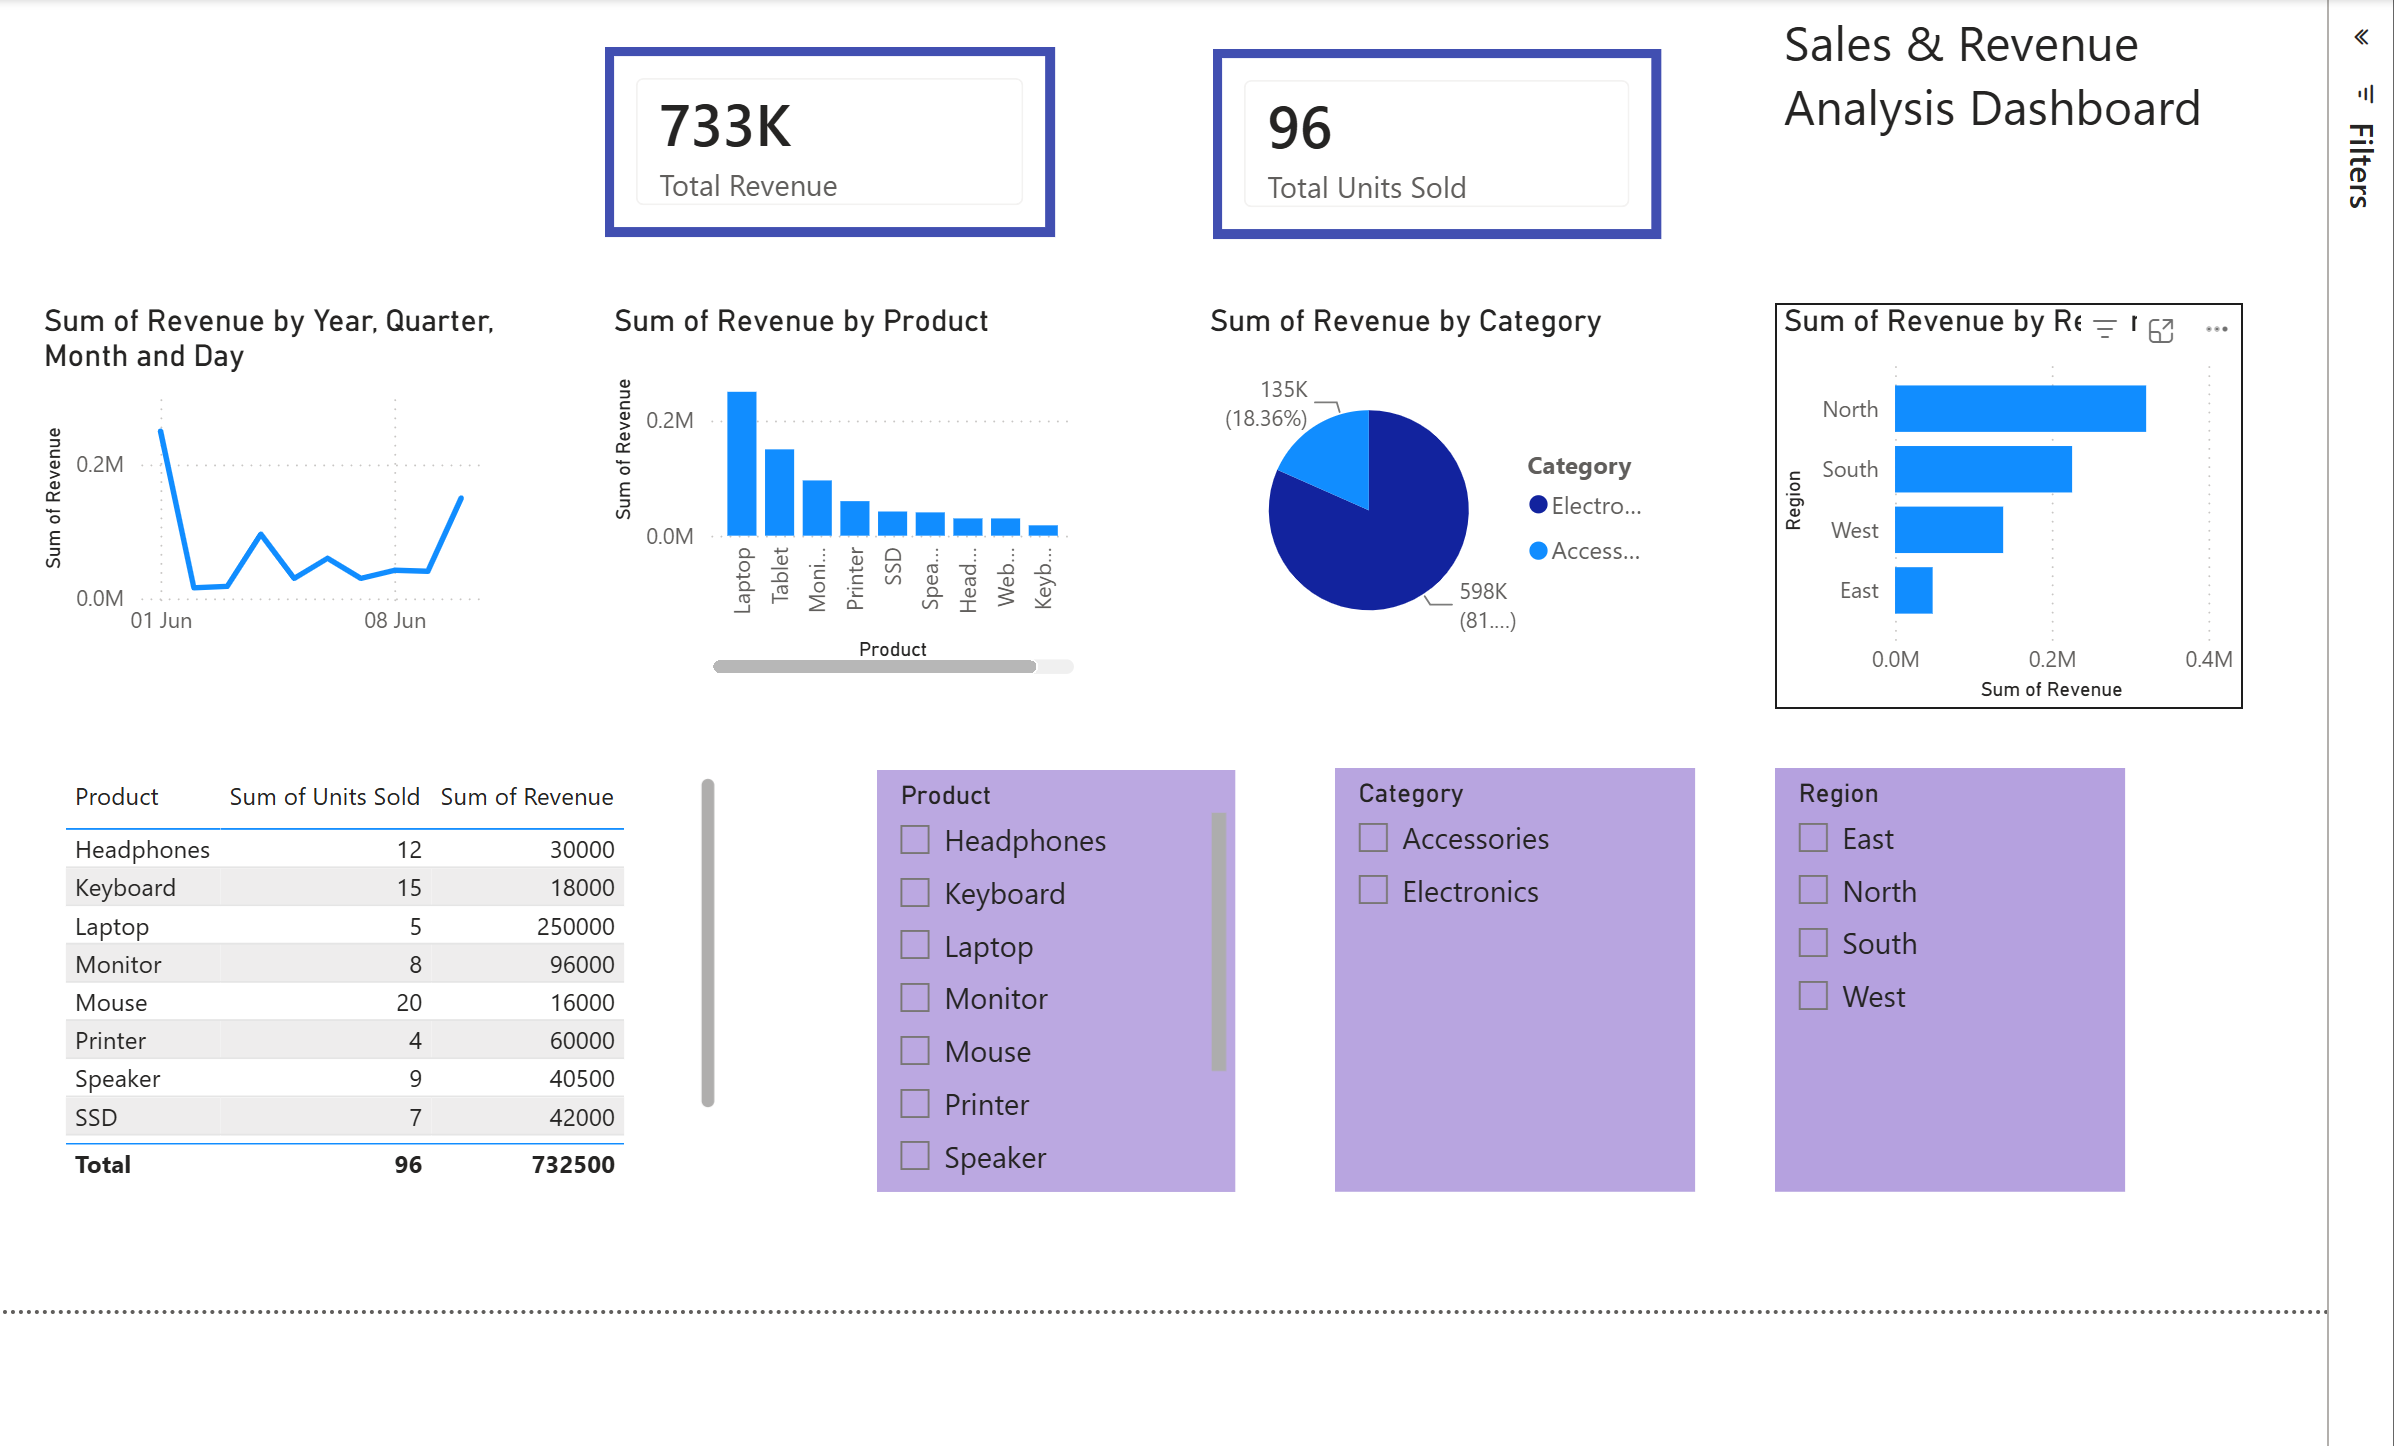

The page's visual inventory and layout, read from the dashboard file:
{"tool":"powerbi","page":{"name":"Page 1","canvas":[1280,720],"ordinal":0},"visuals":[{"type":"cardVisual","fields":{"Data":["Sheet1.Total Revenue"]},"box":[333.2,26.4,247.4,104.5],"z":0},{"type":"cardVisual","fields":{"Data":["Sheet1.Total Units Sold"]},"box":[667.5,27.5,246.3,104.5],"z":1},{"type":"lineChart","fields":{"Y":["Sum(Sheet1.Revenue)"],"Category":["Sheet1.Date.Variation.Date Hierarchy.Year","Sheet1.Date.Variation.Date Hierarchy.Quarter","Sheet1.Date.Variation.Date Hierarchy.Month","Sheet1.Date.Variation.Date Hierarchy.Day"]},"box":[19.8,167.1,257.3,192.4],"z":2},{"type":"clusteredColumnChart","fields":{"Category":["Sheet1.Product"],"Y":["Sum(Sheet1.Revenue)"]},"box":[333.2,167.1,262.8,208.9],"z":3},{"type":"pieChart","fields":{"Category":["Sheet1.Category"],"Y":["Sum(Sheet1.Revenue)"]},"box":[660.9,167.1,259.5,208.9],"z":4},{"type":"clusteredBarChart","fields":{"Y":["Sum(Sheet1.Revenue)"],"Category":["Sheet1.Region"]},"box":[976.5,167.1,257.3,223.2],"z":5},{"type":"tableEx","fields":{"Values":["Sheet1.Product","Sum(Sheet1.Units Sold)","Sum(Sheet1.Revenue)"]},"box":[30.8,422.3,368.4,232],"z":6},{"type":"slicer","fields":{"Values":["Sheet1.Product"]},"box":[482.7,423.4,196.8,232],"z":7},{"type":"slicer","fields":{"Values":["Sheet1.Category"]},"box":[734.6,422.3,197.9,233.1],"z":8},{"type":"slicer","fields":{"Values":["Sheet1.Region"]},"box":[976.5,422.3,192.4,233.1],"z":9},{"type":"textbox","box":[976,0,257,150],"z":10}]}

Visuals, with their boxes on the page's 1280x720 design canvas (x1, y1, x2, y2). These are canvas units, not pixel positions in the 2394x1446 screenshot, which may show the page scaled, cropped or inside an application window:
cardVisual - Sheet1.Total Revenue: (333,26,581,131)
cardVisual - Sheet1.Total Units Sold: (668,28,914,132)
lineChart - Sum(Sheet1.Revenue) x Sheet1.Date.Variation.Date Hierarchy.Year: (20,167,277,360)
clusteredColumnChart - Sheet1.Product x Sum(Sheet1.Revenue): (333,167,596,376)
pieChart - Sheet1.Category x Sum(Sheet1.Revenue): (661,167,920,376)
clusteredBarChart - Sum(Sheet1.Revenue) x Sheet1.Region: (976,167,1234,390)
tableEx - Sheet1.Product x Sum(Sheet1.Units Sold): (31,422,399,654)
slicer - Sheet1.Product: (483,423,680,655)
slicer - Sheet1.Category: (735,422,932,655)
slicer - Sheet1.Region: (976,422,1169,655)
textbox: (976,0,1233,150)
